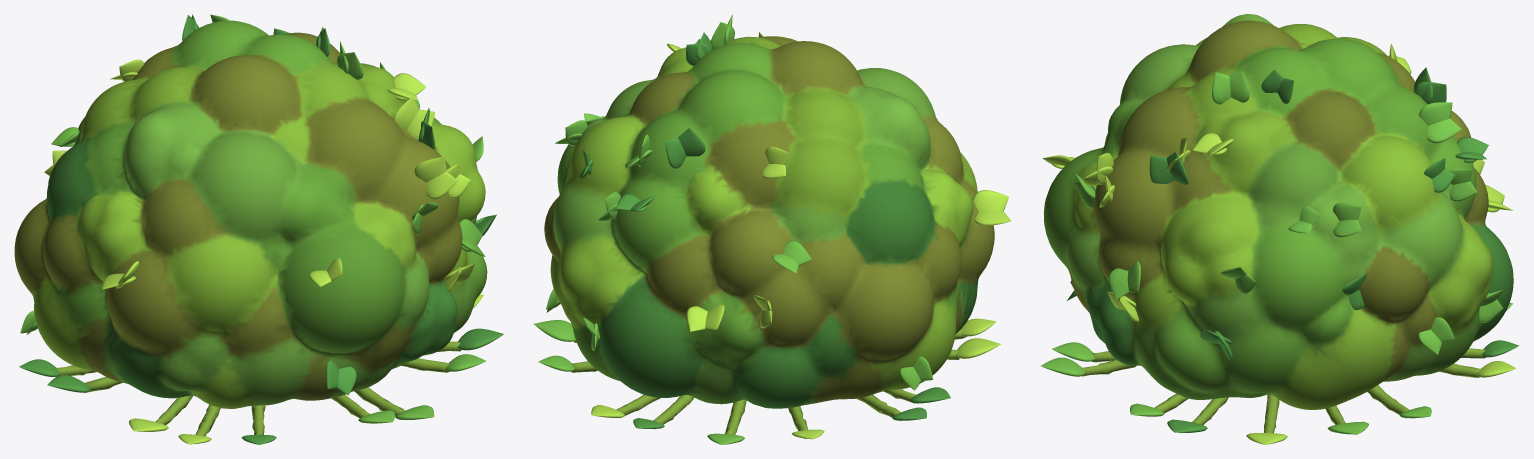
The model's file is arbusto.glb.
The picture shows the model from 3 angles, left to right: view 1: azimuth 30°, elevation 25°; view 2: azimuth 150°, elevation 25°; view 3: azimuth 270°, elevation 25°; orthographic projection. The views are drawn at different scales.
Visible parts, largest first — view 1: arbusto, folhas, galhos; view 2: arbusto, folhas, galhos; view 3: arbusto, folhas, galhos.
Boxes of the visible parts, x1,y1,x2,y2 form: arbusto: (14, 20, 487, 408); folhas: (19, 14, 503, 444); galhos: (55, 341, 461, 436); arbusto: (544, 36, 994, 408); folhas: (533, 14, 1011, 444); galhos: (571, 329, 967, 438); arbusto: (1043, 14, 1513, 409); folhas: (1041, 44, 1519, 444); galhos: (1081, 348, 1486, 433).
Bounding box in the file's own units: 1.83 × 1.31 × 1.8.
